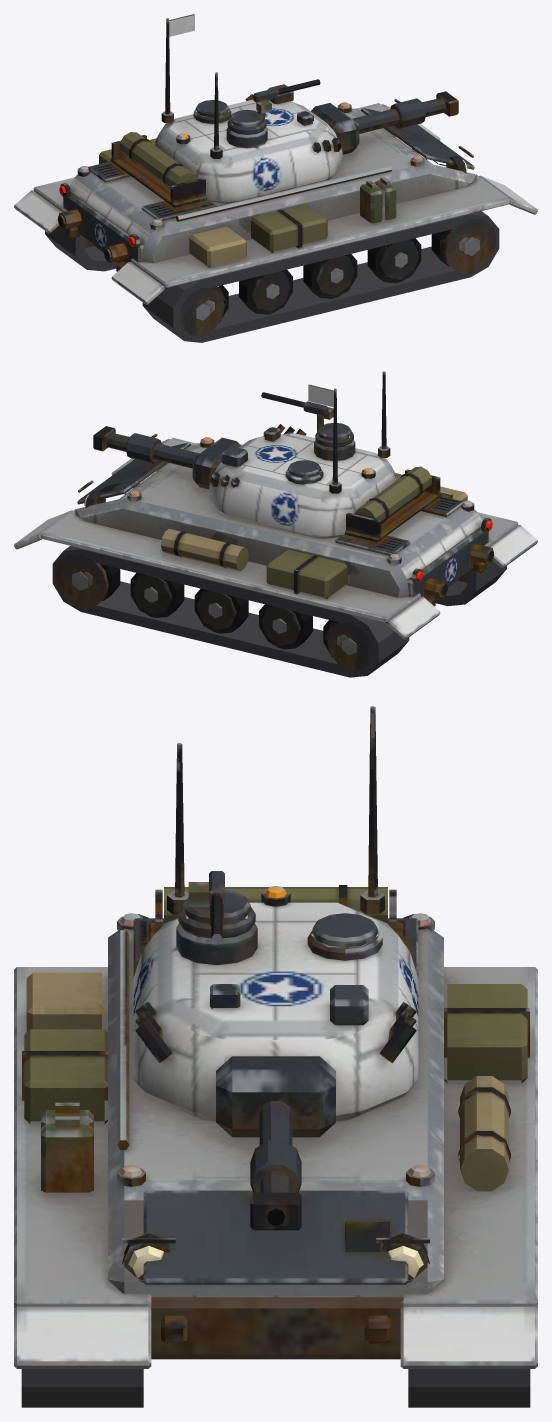
Rendered from 1tnk.allies.glb.
The picture shows the model from 3 angles, top to bottom: view 1: azimuth 30°, elevation 25°; view 2: azimuth 150°, elevation 25°; view 3: azimuth 270°, elevation 25°; orthographic projection. The views are drawn at different scales.
Visible parts, largest first — view 1: root_mesh, turret_mesh, b0_mesh; view 2: root_mesh, turret_mesh, b0_mesh; view 3: root_mesh, turret_mesh, b0_mesh.
Boxes of the visible parts, <box> form: root_mesh: <box>14,99,537,342</box>; turret_mesh: <box>110,14,359,207</box>; b0_mesh: <box>352,91,458,133</box>; root_mesh: <box>14,433,537,677</box>; turret_mesh: <box>192,371,441,542</box>; b0_mesh: <box>93,426,199,468</box>; root_mesh: <box>14,913,537,1407</box>; turret_mesh: <box>133,706,418,1137</box>; b0_mesh: <box>250,1101,301,1230</box>.
Bounding box in the file's own units: 0.8847 × 0.529 × 0.515.
2 materials, 1 textured.
